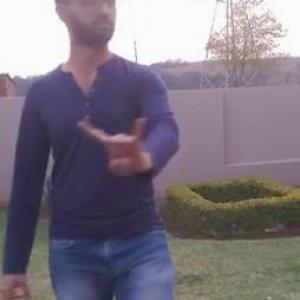takeoff-hand: (79, 109, 150, 188)
